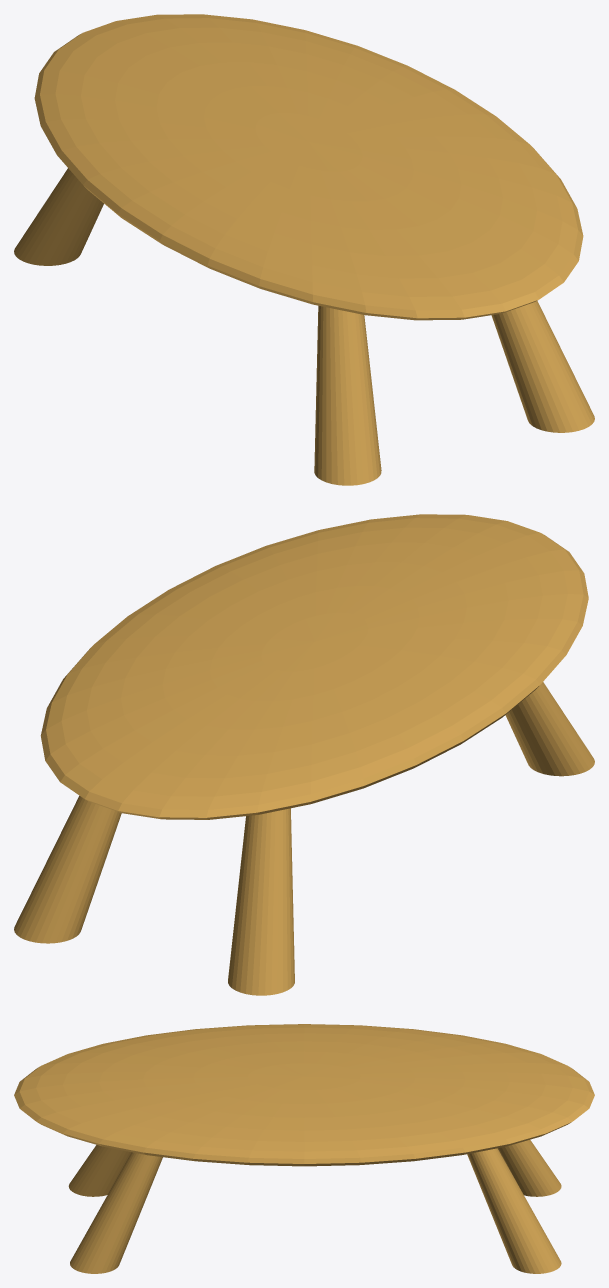
File: table.gltf
The picture shows the model from 3 angles, top to bottom: view 1: azimuth 30°, elevation 25°; view 2: azimuth 150°, elevation 25°; view 3: azimuth 270°, elevation 25°; orthographic projection. The views are drawn at different scales.
Visible parts, largest first — view 1: Cylinder.001; view 2: Cylinder.001; view 3: Cylinder.001.
Boxes of the visible parts, <box> form: Cylinder.001: <box>14,14,594,485</box>; Cylinder.001: <box>14,514,594,995</box>; Cylinder.001: <box>14,1024,594,1273</box>.
Size of the model in its own units: 2.84 by 1.42 by 5.07.
